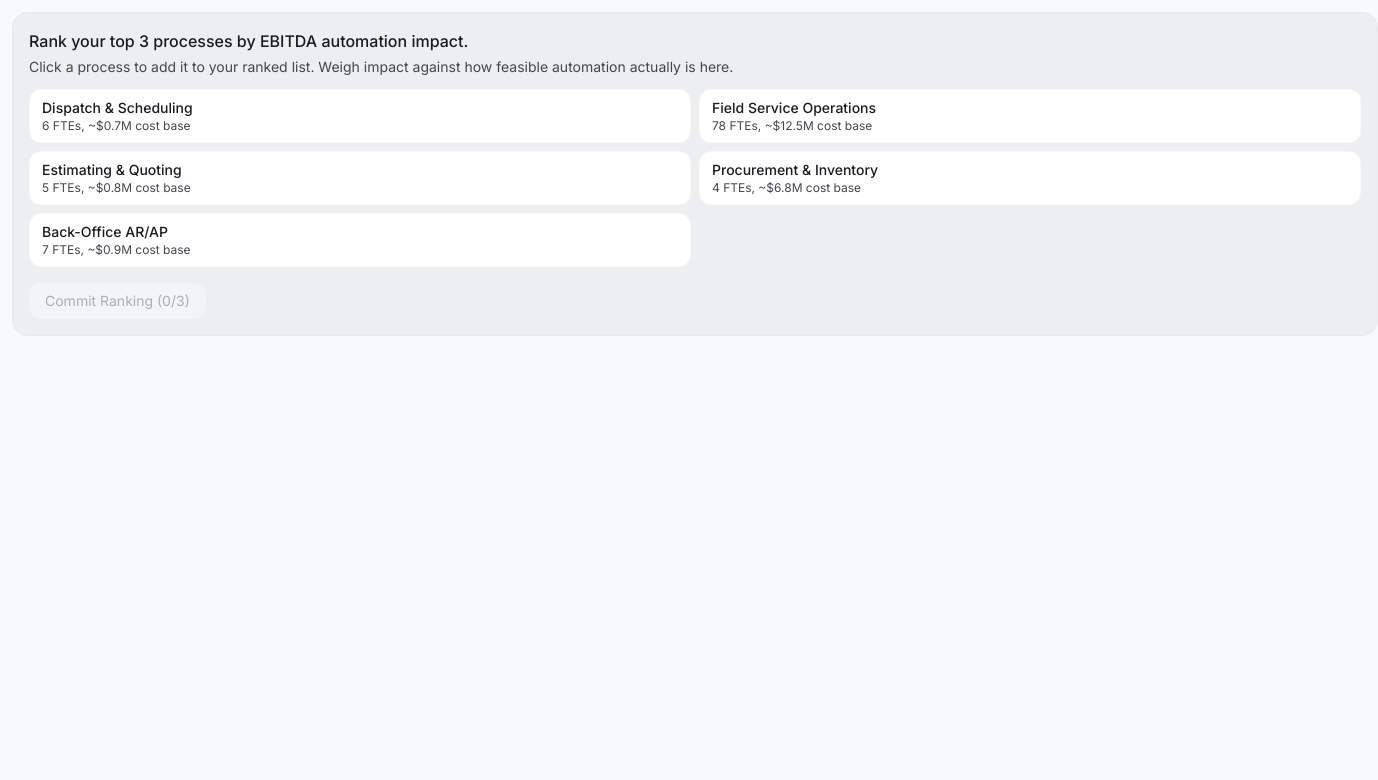
Test case: RankingStage › grades deterministically and reveals the matrix on commit
Click the button "Dispatch & Scheduling 6 FTEs, ~$0.7M cost base" at (117, 108), box [29,89,691,143]
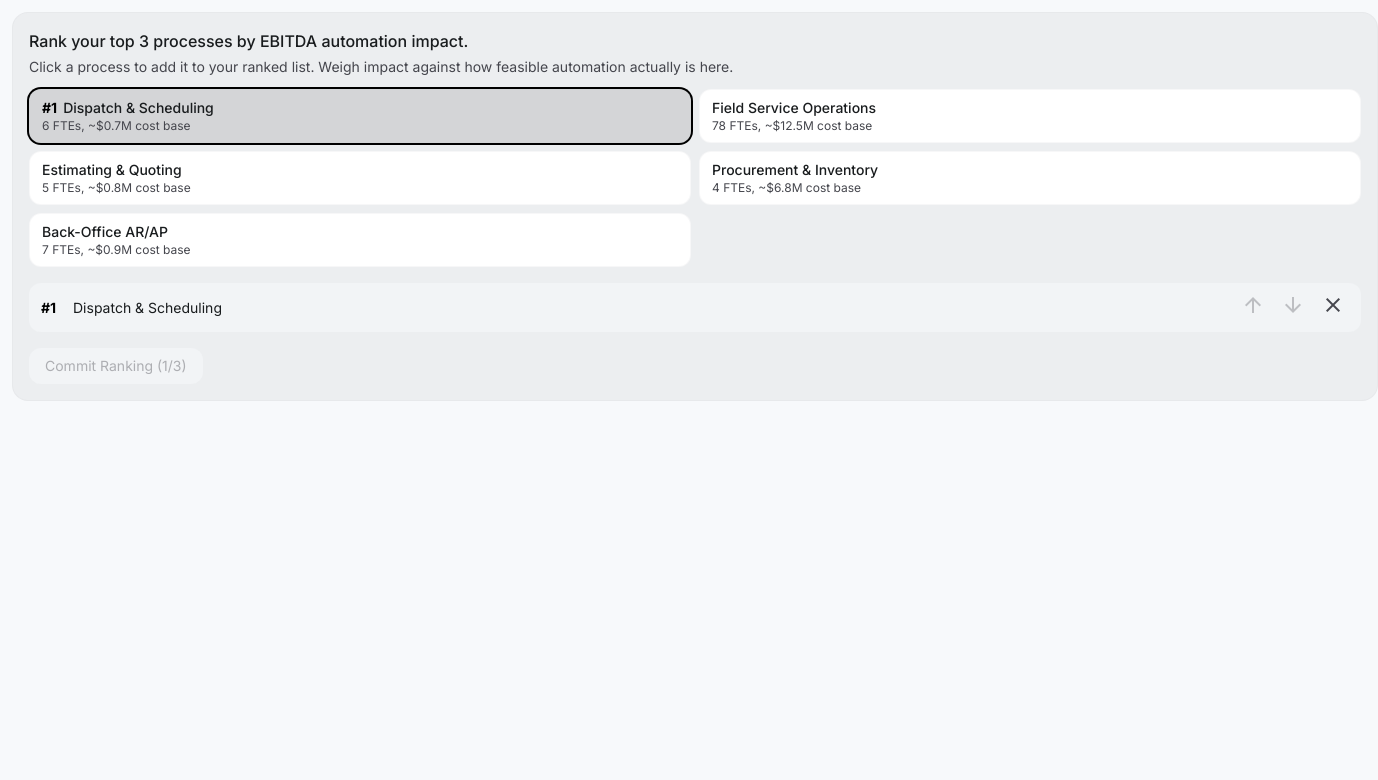
Click the button "Procurement & Inventory 4 FTEs, ~$6.8M cost base" at (795, 170), box [699,151,1361,205]
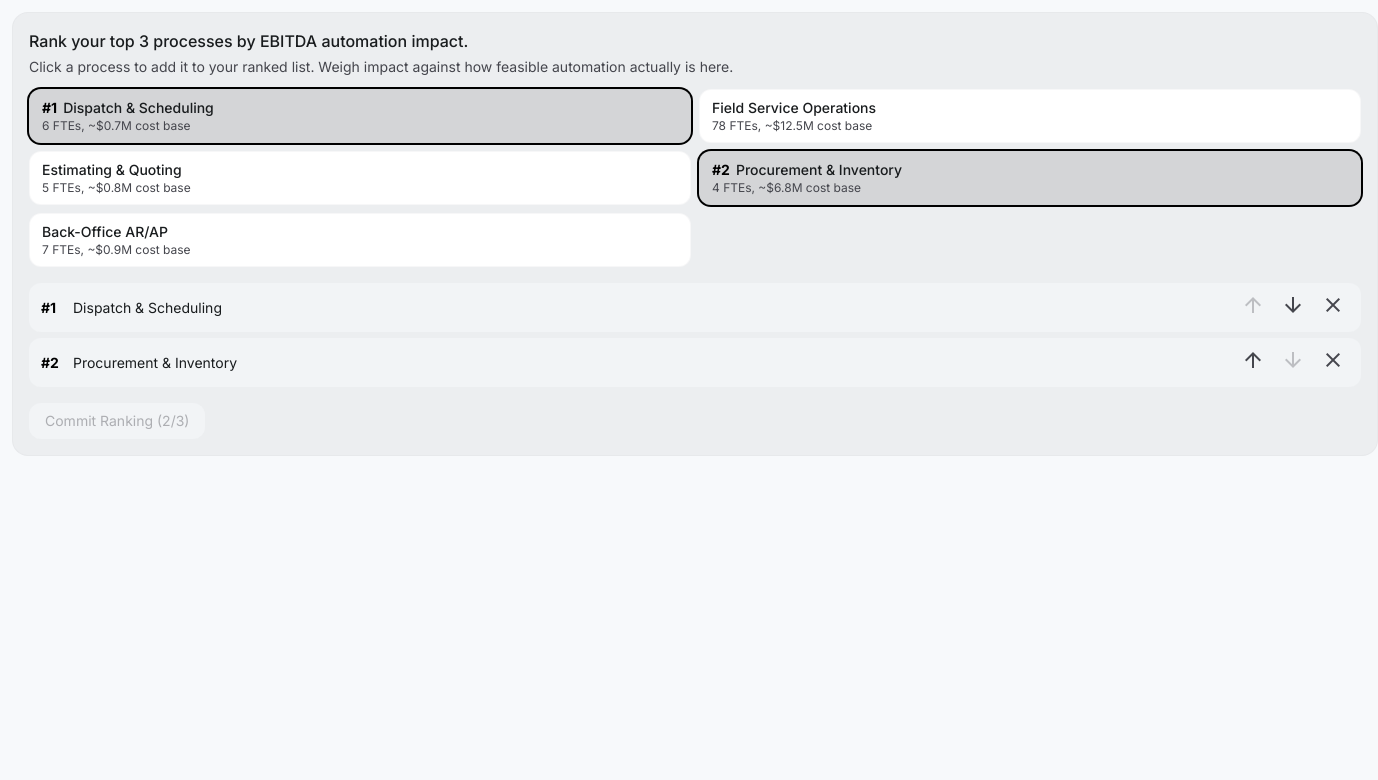
Click the button "Field Service Operations 78 FTEs, ~$12.5M cost base" at (794, 108), box [699,89,1361,143]
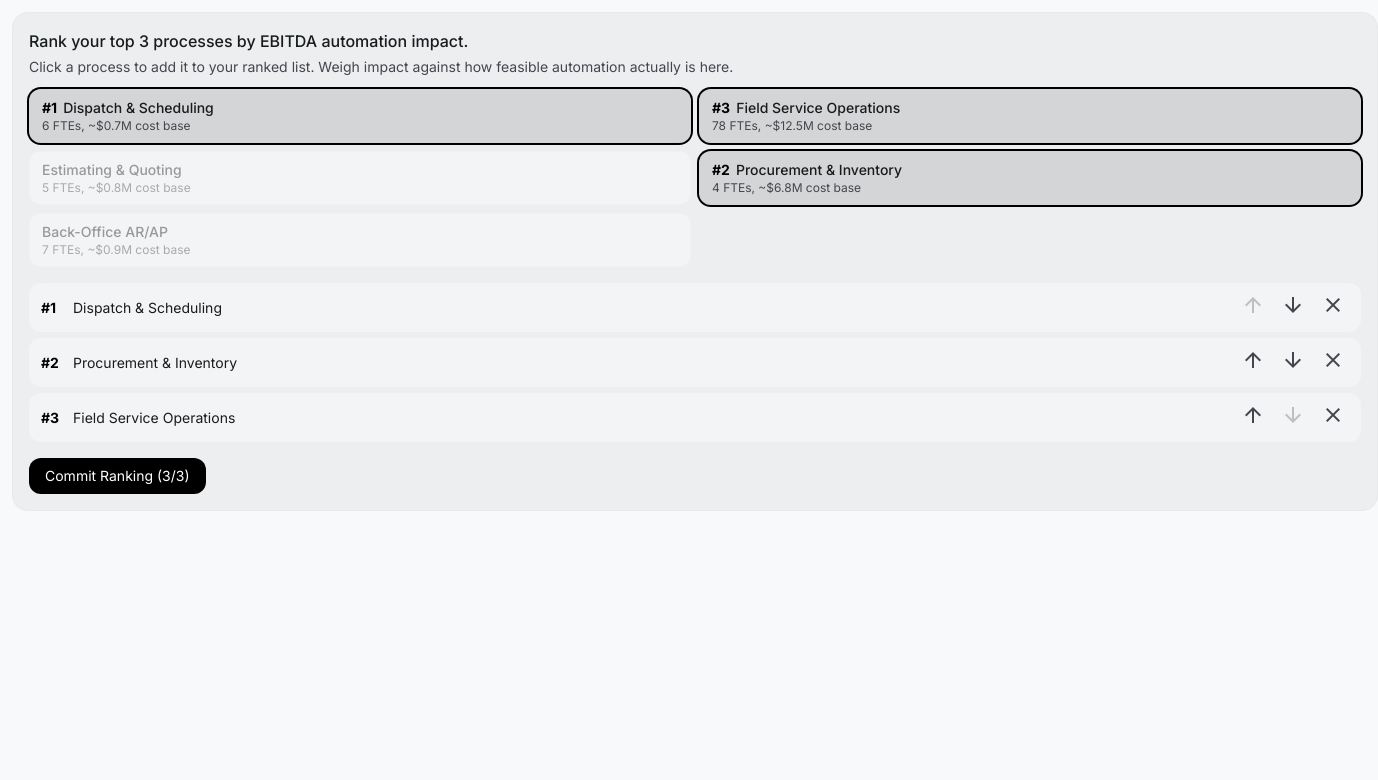
Click the button "Commit Ranking (3/3)" at (117, 476), box [29,458,206,494]
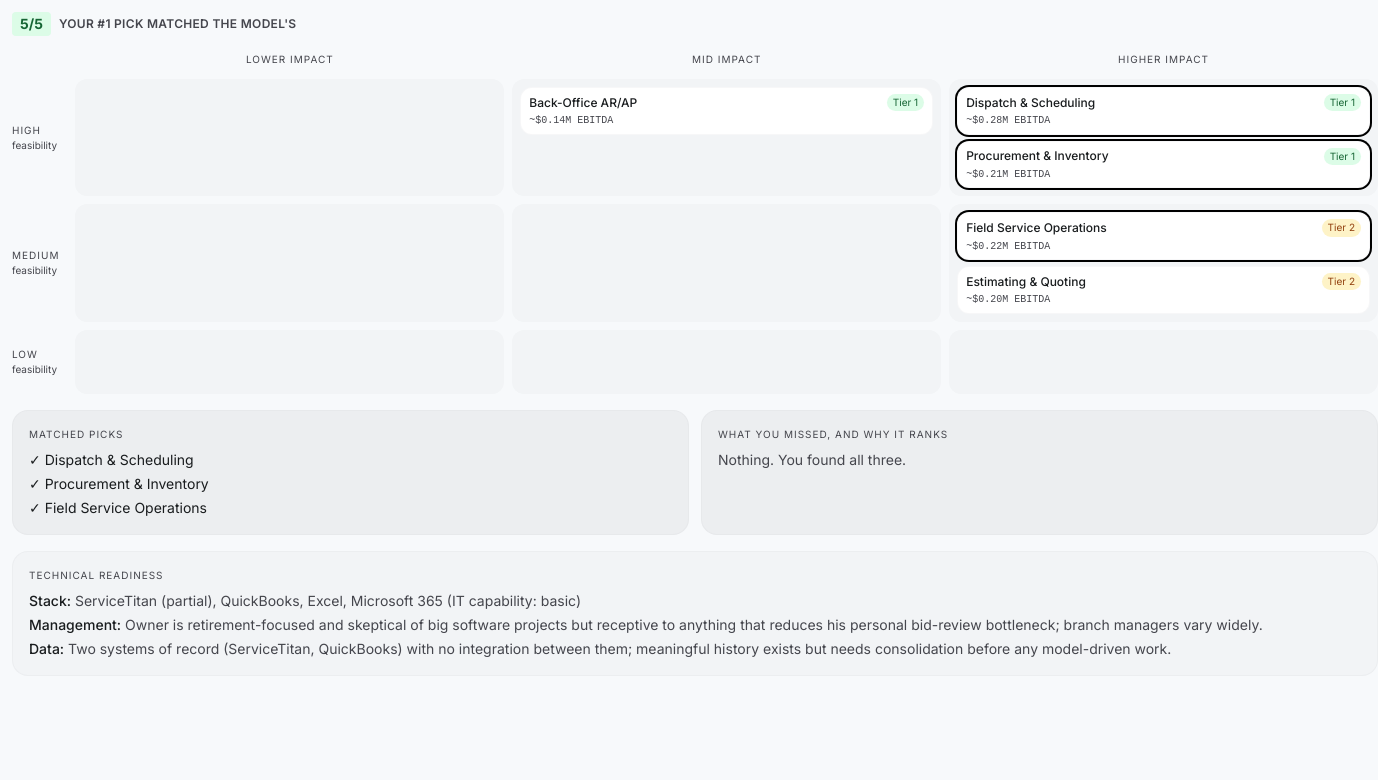
Expected: the text "5/5" is shown, [12,12,51,36]
Expected: the text "Your #1 pick matched the model's" is shown, [59,16,296,32]
Expected: the text "Nothing. You found all three." is shown, [718,451,906,468]
